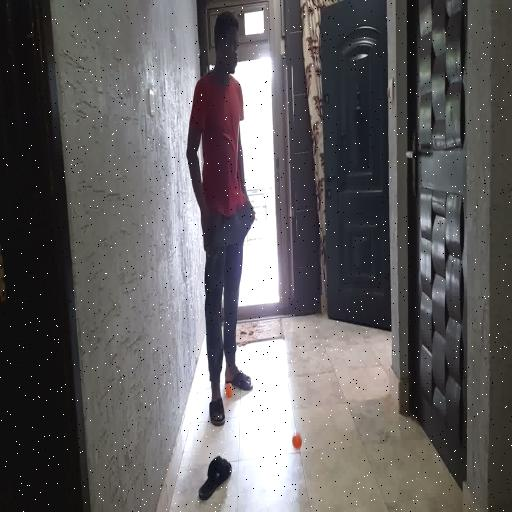plastic-ball: (292, 432, 303, 450)
